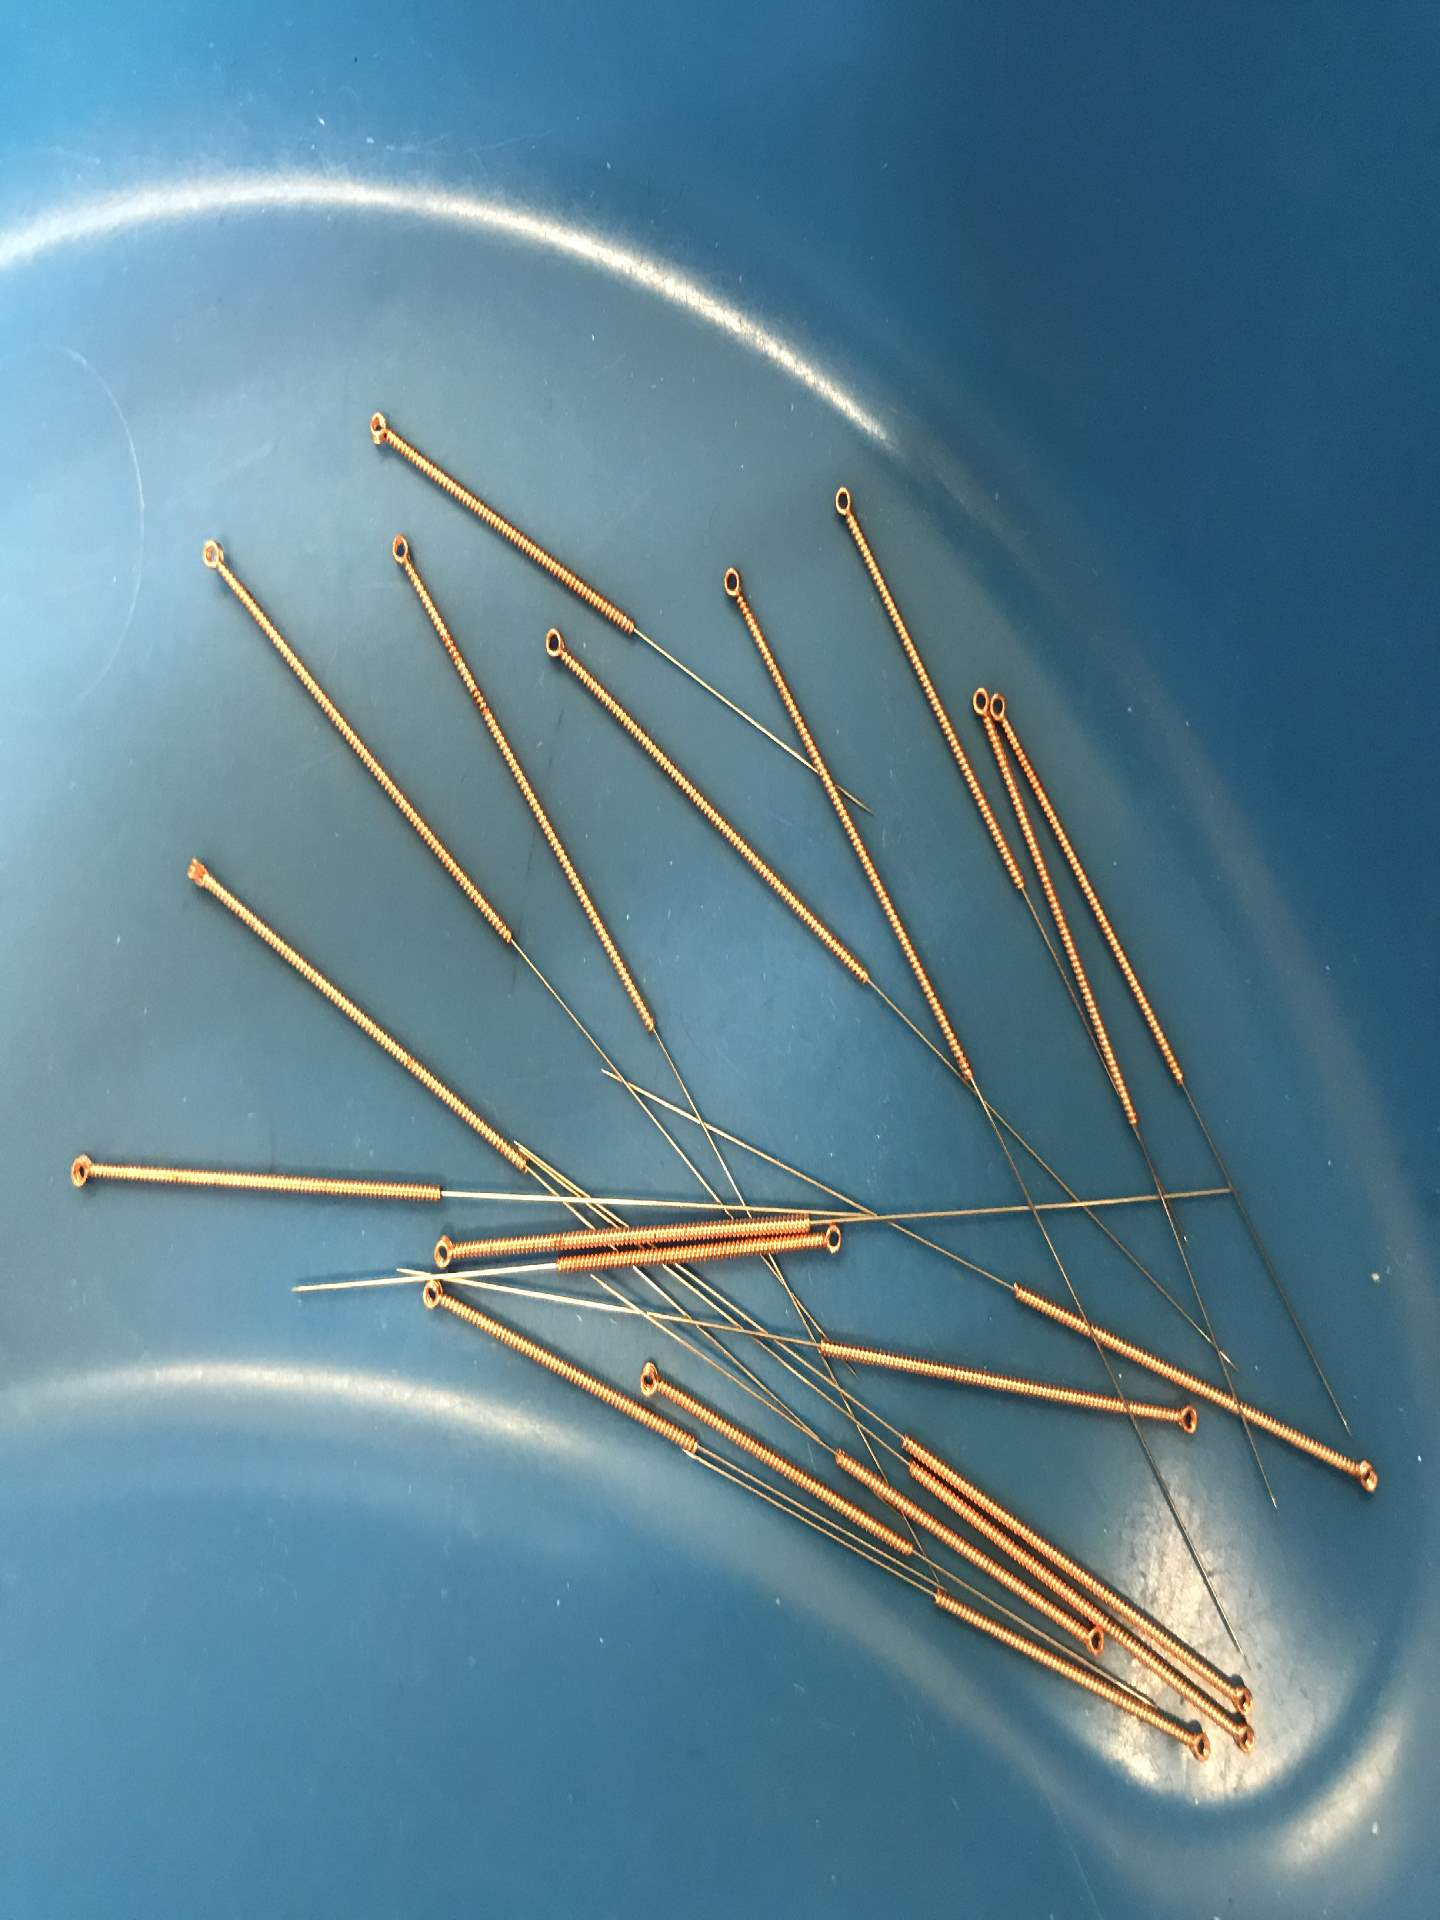needle: (54, 1144, 104, 1200), (188, 525, 234, 582), (171, 847, 219, 898), (709, 556, 752, 611), (358, 405, 405, 454), (419, 1231, 466, 1274), (534, 621, 576, 670), (1345, 1450, 1383, 1503), (821, 478, 861, 528), (380, 526, 419, 574), (632, 1355, 669, 1404), (1166, 1398, 1206, 1442), (1224, 1714, 1262, 1760), (1178, 1723, 1215, 1767), (411, 1276, 452, 1314), (1224, 1677, 1255, 1717), (989, 682, 1015, 732), (1072, 1624, 1109, 1658), (815, 1222, 849, 1259), (964, 679, 991, 723)
